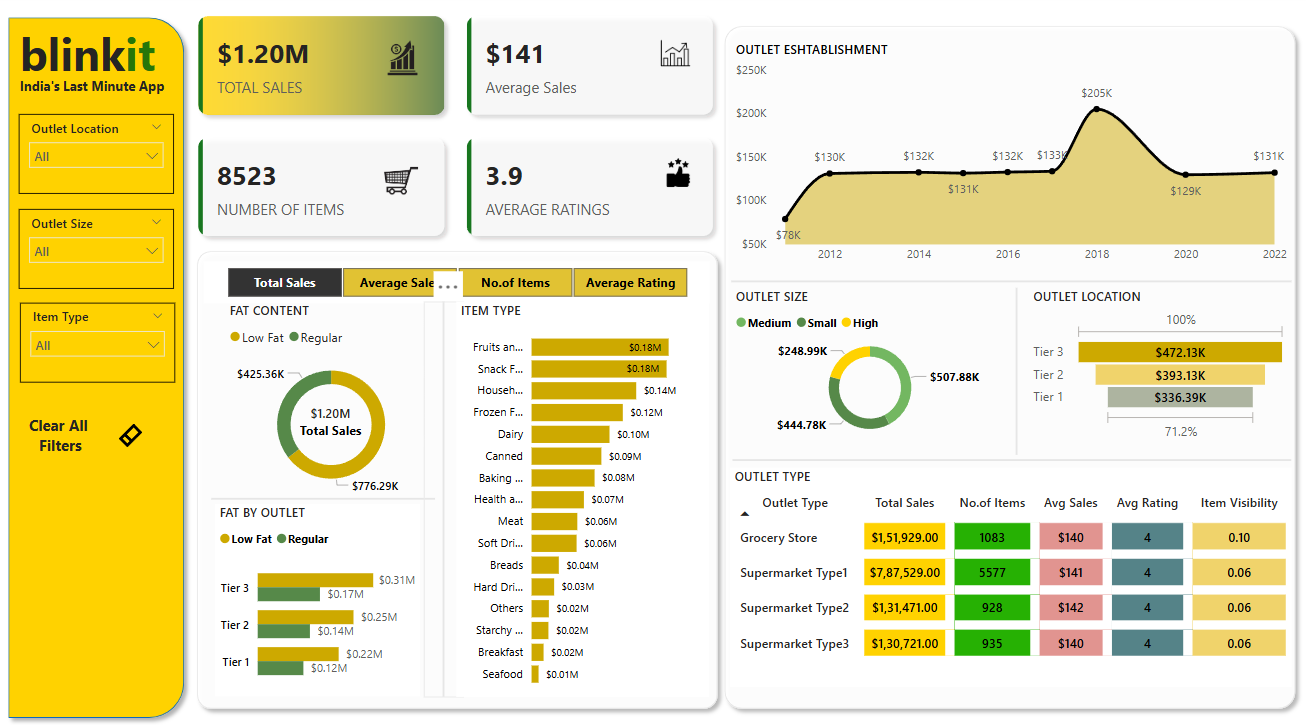

Layout of this report page (visuals, bound fields, positions):
{"tool":"powerbi","page":{"name":"Page 1","canvas":[1400,800],"ordinal":0},"visuals":[{"type":"shape","box":[0,16.1,206.4,769.4],"z":0},{"type":"textbox","box":[15.7,25.7,332.1,95],"z":1000},{"type":"textbox","box":[15.7,85,257.1,43.6],"z":2000},{"type":"cardVisual","fields":{"Data":["Sum(BlinkIT Grocery Data.Sales)","BlinkIT Grocery Data.AVERAGE SALES","BlinkIT Grocery Data.TOTAL ITEMS","Avg(BlinkIT Grocery Data.Rating)"]},"box":[196.4,6.4,587.3,270],"z":3000},{"type":"shape","box":[201.8,267.3,576.4,509.1],"z":4000},{"type":"donutChart","title":"FAT CONTENT","fields":{"Y":["BlinkIT Grocery Data.Total Sales"],"Category":["BlinkIT Grocery Data.Item Fat Content"]},"box":[241.4,330,228,217],"z":5000},{"type":"slicer","fields":{"Values":["Fat Content Metrics.Fat Content Metrics"]},"box":[218.2,286.4,542.7,44.5],"z":6000},{"type":"cardVisual","fields":{"Data":["BlinkIT Grocery Data.Total Sales"]},"box":[293.8,423.8,122.5,66.2],"z":7000},{"type":"clusteredBarChart","title":"FAT BY OUTLET","fields":{"Y":["BlinkIT Grocery Data.Total Sales"],"Category":["BlinkIT Grocery Data.Outlet Location Type"],"Series":["BlinkIT Grocery Data.Item Fat Content"]},"box":[231.2,547.3,220,206.2],"z":8000},{"type":"shape","box":[226.4,520,240,42.7],"z":9000},{"type":"shape","box":[454.9,329.8,42.5,425],"z":10000},{"type":"barChart","title":"ITEM TYPE","fields":{"Y":["BlinkIT Grocery Data.Total Sales"],"Category":["BlinkIT Grocery Data.Item Type"]},"box":[488.7,329.8,271.2,423.8],"z":11000},{"type":"shape","box":[768.6,25.7,630,750],"z":12000},{"type":"lineChart","title":"OUTLET ESHTABLISHMENT","fields":{"Y":["BlinkIT Grocery Data.Total Sales"],"Category":["BlinkIT Grocery Data.Outlet Establishment Year"]},"box":[783.6,50,600.9,248.2],"z":13000},{"type":"shape","box":[783.6,290,600.9,37.3],"z":14000},{"type":"donutChart","title":"OUTLET SIZE","fields":{"Y":["BlinkIT Grocery Data.Total Sales"],"Category":["BlinkIT Grocery Data.Outlet Size"]},"box":[783.6,315.5,298.2,169.1],"z":15000},{"type":"shape","box":[1077.5,315.6,25,179.4],"z":16000},{"type":"funnel","title":"OUTLET LOCATION","fields":{"Y":["BlinkIT Grocery Data.Total Sales"],"Category":["BlinkIT Grocery Data.Outlet Location Type"]},"box":[1102.7,315.5,281.8,169.1],"z":17000},{"type":"shape","box":[786.2,490,599.2,18.5],"z":18000},{"type":"tableEx","title":"OUTLET TYPE","fields":{"Values":["BlinkIT Grocery Data.Outlet Type","BlinkIT Grocery Data.Total Sales","BlinkIT Grocery Data.No.of Items","BlinkIT Grocery Data.Average Sales","BlinkIT Grocery Data.Average Rating","Avg(BlinkIT Grocery Data.Item Visibility)"]},"box":[783.3,508.7,602,235.3],"z":19000},{"type":"slicer","title":"OUTLET LOCATION","fields":{"Values":["BlinkIT Grocery Data.Outlet Location Type"]},"box":[20,129.1,166.4,85.5],"z":20000},{"type":"slicer","title":"OUTLET LOCATION","fields":{"Values":["BlinkIT Grocery Data.Outlet Size"]},"box":[20,230,166.4,85.5],"z":21000},{"type":"slicer","title":"OUTLET LOCATION","fields":{"Values":["BlinkIT Grocery Data.Item Type"]},"box":[20.9,330.9,166.4,85.5],"z":22000},{"type":"actionButton","box":[113.8,456.9,51.9,33.1],"z":23000},{"type":"textbox","box":[20.8,446.2,89.2,60.8],"z":23001}]}

Visuals, with their boxes in screenshot pixels (x1, y1, x2, y2), scaled from the page's 1400x800 canvas onto the 1306x725 screenshot:
shape: crop(0, 15, 193, 712)
textbox: crop(15, 23, 324, 109)
textbox: crop(15, 77, 254, 117)
cardVisual - Sum(BlinkIT Grocery Data.Sales) x BlinkIT Grocery Data.AVERAGE SALES: crop(183, 6, 731, 250)
shape: crop(188, 242, 726, 704)
"FAT CONTENT" donutChart: crop(225, 299, 438, 496)
slicer - Fat Content Metrics.Fat Content Metrics: crop(204, 260, 710, 300)
cardVisual - BlinkIT Grocery Data.Total Sales: crop(274, 384, 388, 444)
"FAT BY OUTLET" clusteredBarChart: crop(216, 496, 421, 683)
shape: crop(211, 471, 435, 510)
shape: crop(424, 299, 464, 684)
"ITEM TYPE" barChart: crop(456, 299, 709, 683)
shape: crop(717, 23, 1305, 703)
"OUTLET ESHTABLISHMENT" lineChart: crop(731, 45, 1292, 270)
shape: crop(731, 263, 1292, 297)
"OUTLET SIZE" donutChart: crop(731, 286, 1009, 439)
shape: crop(1005, 286, 1028, 449)
"OUTLET LOCATION" funnel: crop(1029, 286, 1292, 439)
shape: crop(733, 444, 1292, 461)
"OUTLET TYPE" tableEx: crop(731, 461, 1292, 674)
"OUTLET LOCATION" slicer: crop(19, 117, 174, 194)
"OUTLET LOCATION" slicer: crop(19, 208, 174, 286)
"OUTLET LOCATION" slicer: crop(19, 300, 175, 377)
actionButton: crop(106, 414, 155, 444)
textbox: crop(19, 404, 103, 459)
